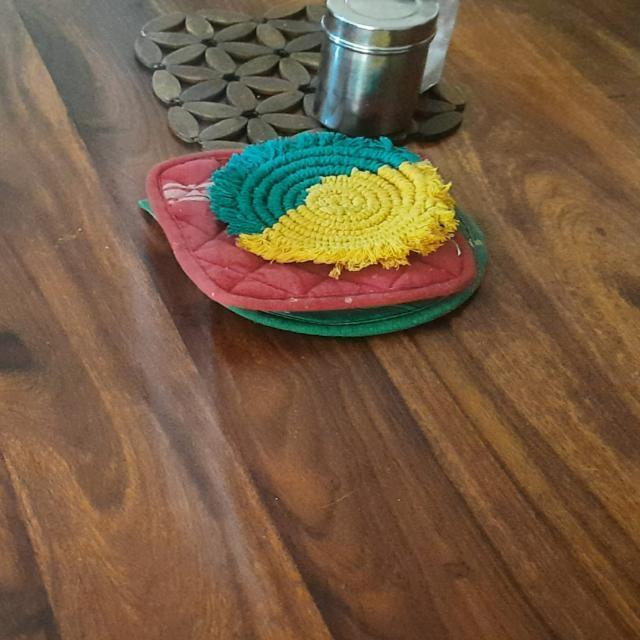fire: (105, 236, 278, 586)
